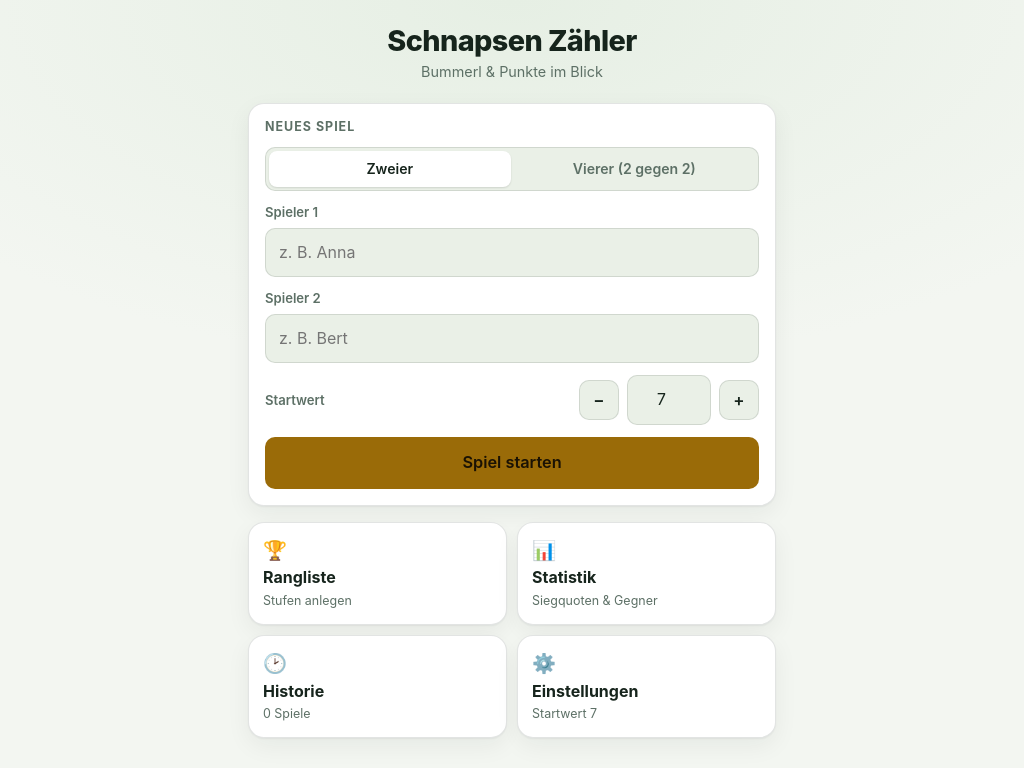
Test: App › beendet ein Spiel und legt es in der Historie ab
Type "Anna" into the field labelled "Spieler 1" at {"x": 512, "y": 253}, box [265,228,759,277]
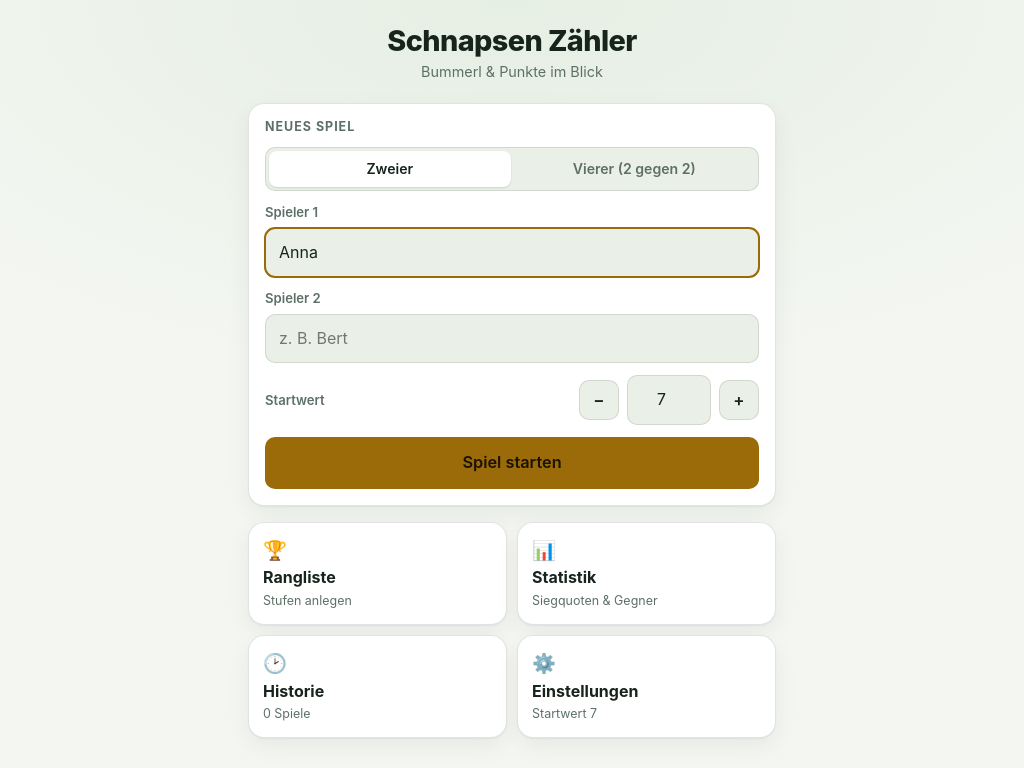
Type "Bert" into the field labelled "Spieler 2" at {"x": 512, "y": 339}, box [265,314,759,364]
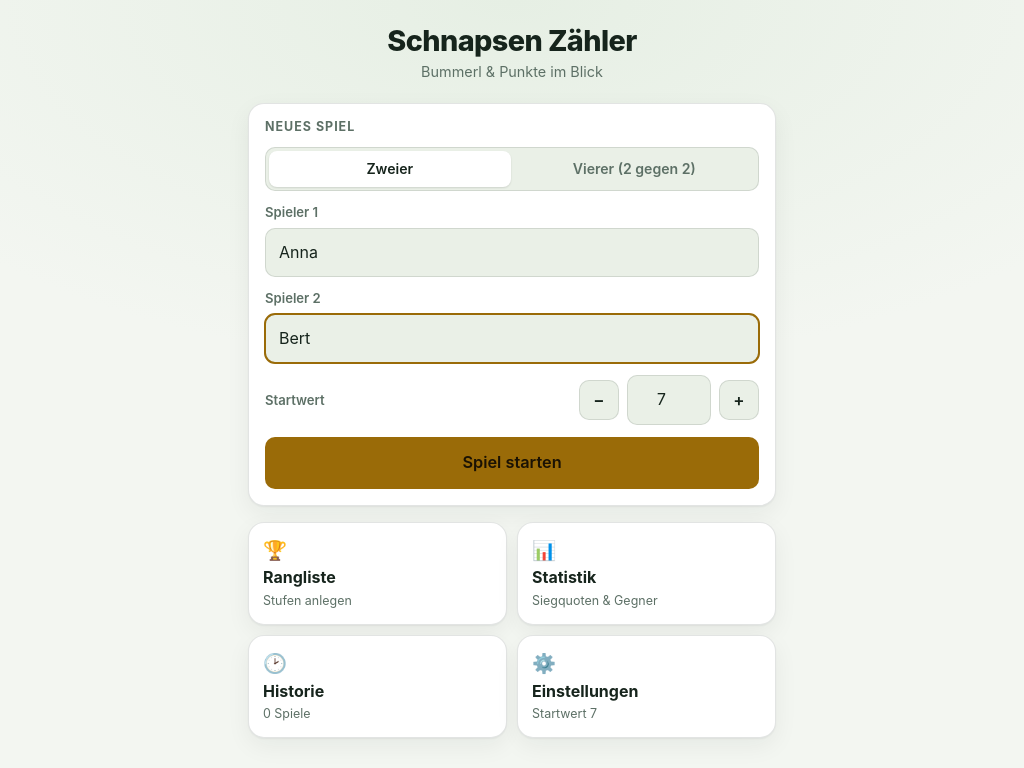
Click the button "Spiel starten" at {"x": 512, "y": 463}, box [265,437,759,489]
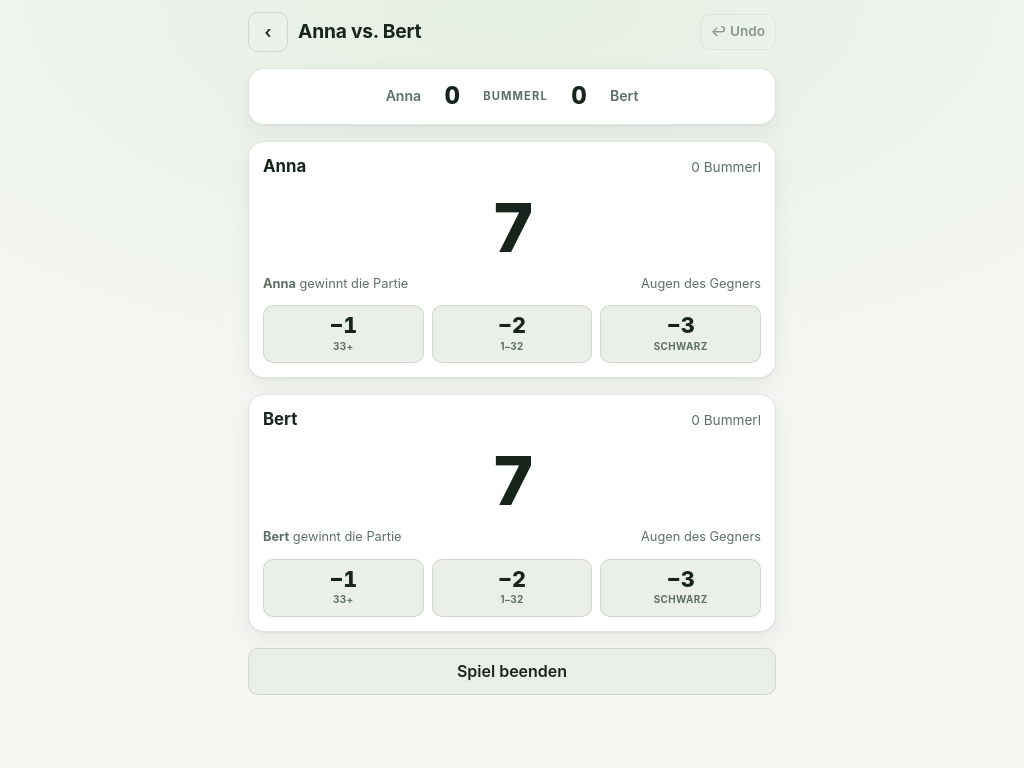
Now the heading "Anna vs. Bert" is shown, box [298,20,421,44]
Click the 1st button "−1 33+" at {"x": 343, "y": 334}, box [263,305,424,363]
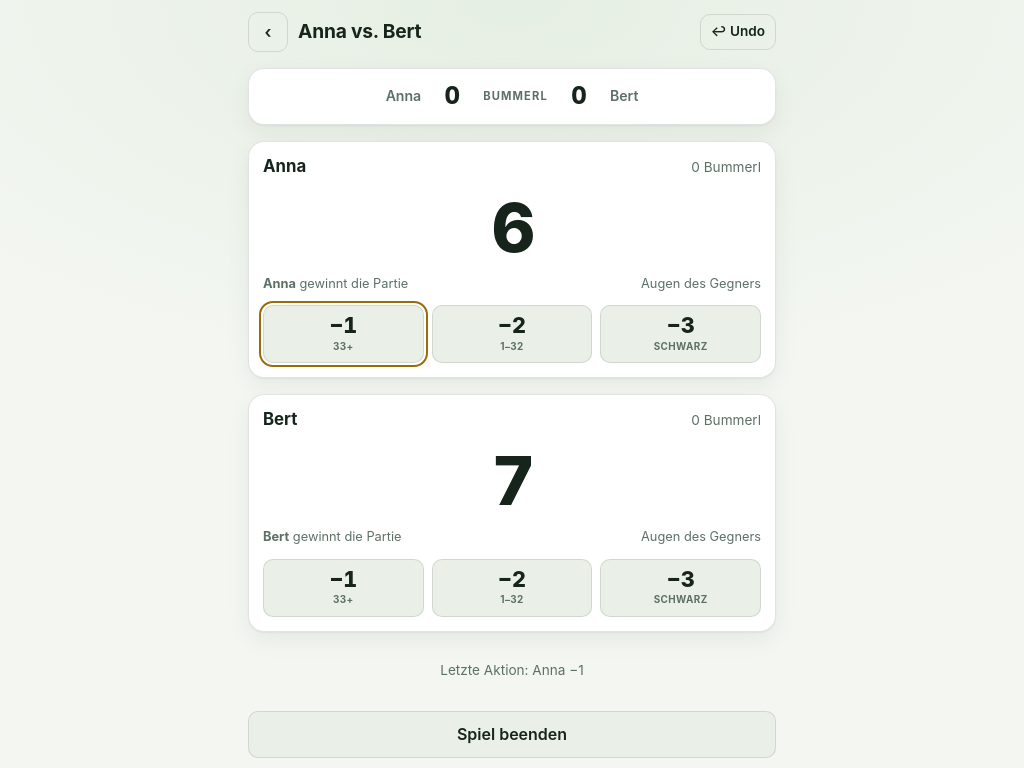
Click the button "Spiel beenden" at {"x": 512, "y": 734}, box [248,711,776,758]
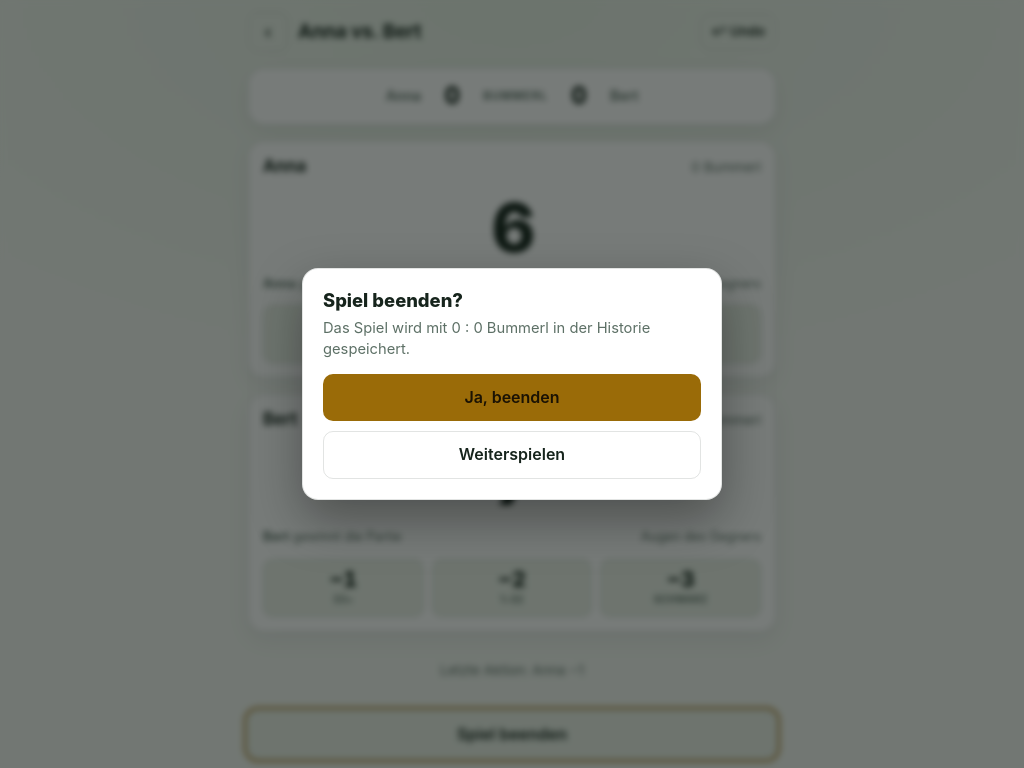
Click the button "Ja, beenden" at {"x": 512, "y": 398}, box [323,374,701,421]
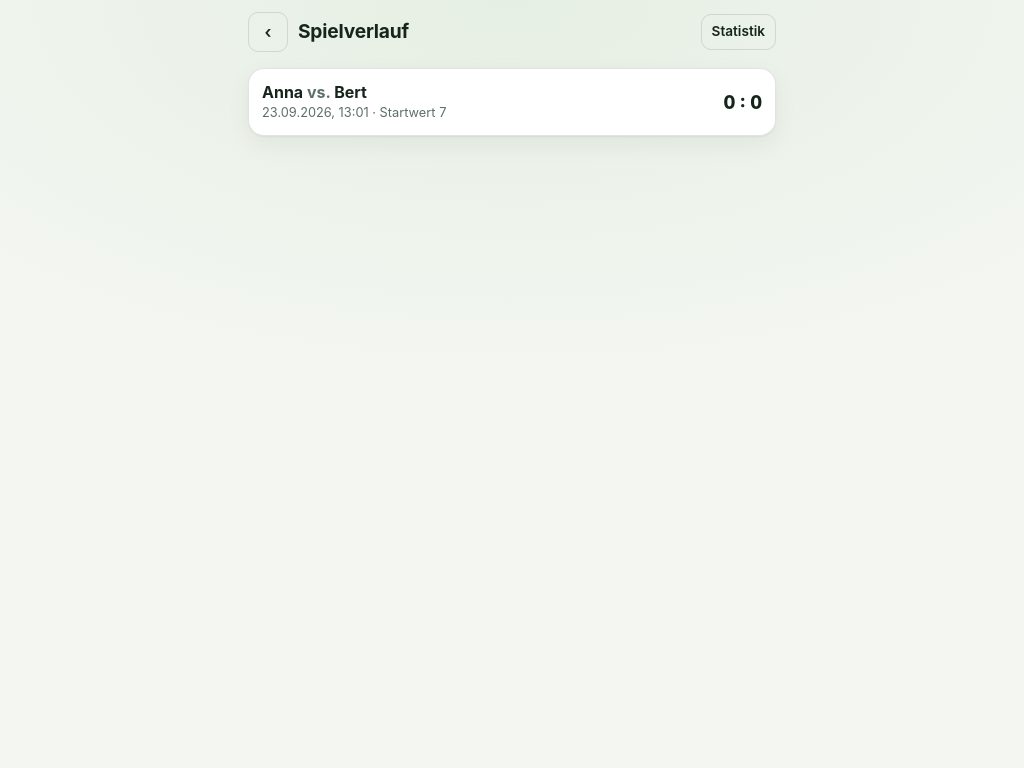
Now the text "Anna" is shown, box [262,82,303,102]
Now the text "Bert" is shown, box [334,82,367,102]
Now the heading "Spielverlauf" is shown, box [298,20,409,44]
